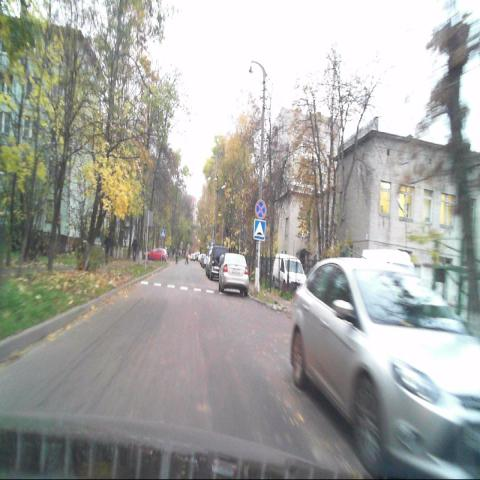3_27: (255, 200, 266, 220)
5_20: (253, 219, 265, 241)
